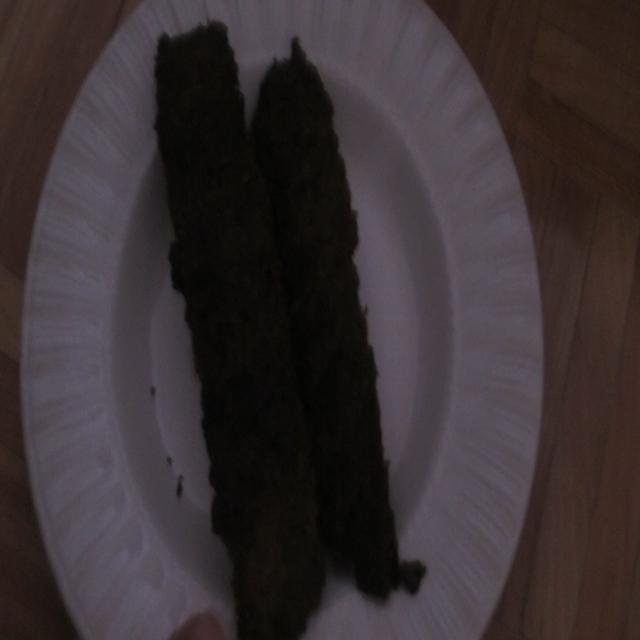cutlet: (150, 40, 388, 538)
